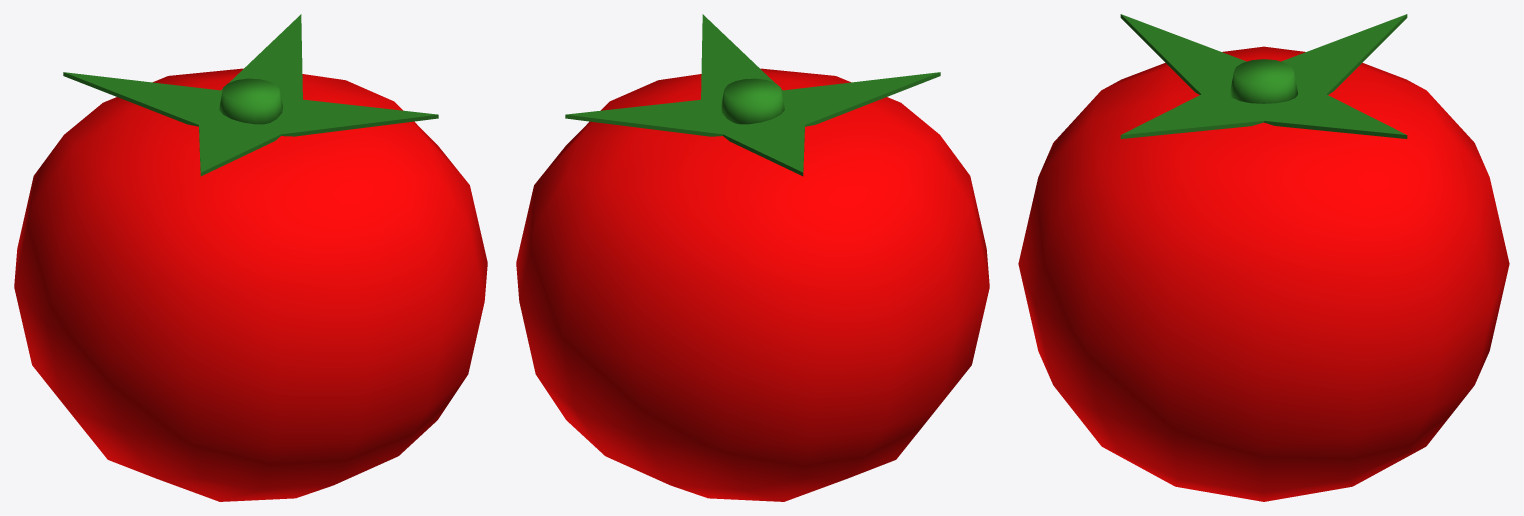
File: Tomato.fbx
3 views of the same model, side by side, from view 1: azimuth 30°, elevation 25°; view 2: azimuth 150°, elevation 25°; view 3: azimuth 270°, elevation 25° (orthographic). The views are drawn at different scales.
Parts seen in each view (by area): view 1: Tomato; view 2: Tomato; view 3: Tomato.
Part boxes in pixels (x1,y1,x2,y2): Tomato: (14,14,487,501); Tomato: (516,14,989,501); Tomato: (1018,14,1509,501).
Size of the model in its own units: 51.73 by 47.1 by 51.73.
